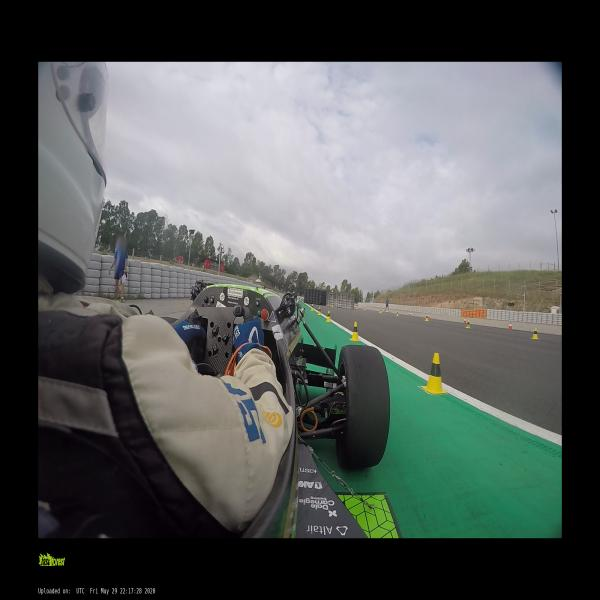orange_cone: (508, 323, 511, 330), (464, 318, 466, 324), (428, 314, 430, 320)
yellow_cone: (421, 353, 448, 395), (349, 322, 360, 341), (530, 328, 540, 340), (326, 311, 332, 322), (465, 321, 471, 328), (317, 307, 321, 315), (310, 304, 314, 311), (424, 315, 428, 321), (395, 311, 399, 316), (379, 309, 381, 313), (364, 307, 366, 311), (332, 303, 333, 307), (370, 307, 371, 310), (356, 306, 357, 309)
